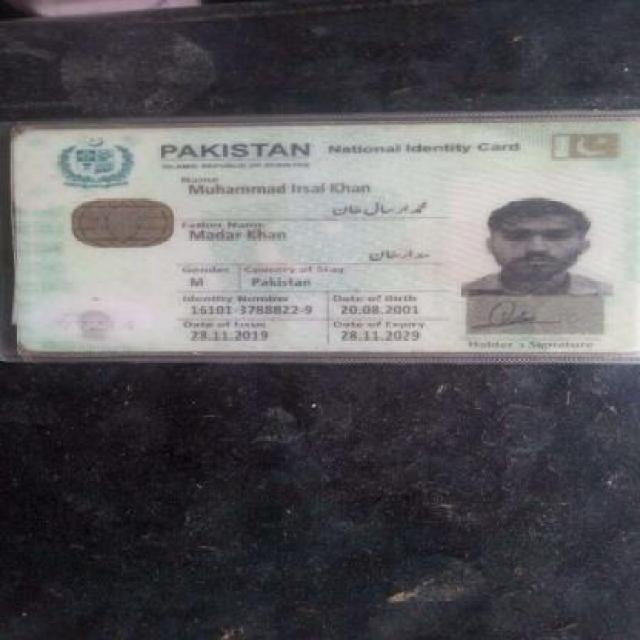Front: (11, 120, 638, 360)
